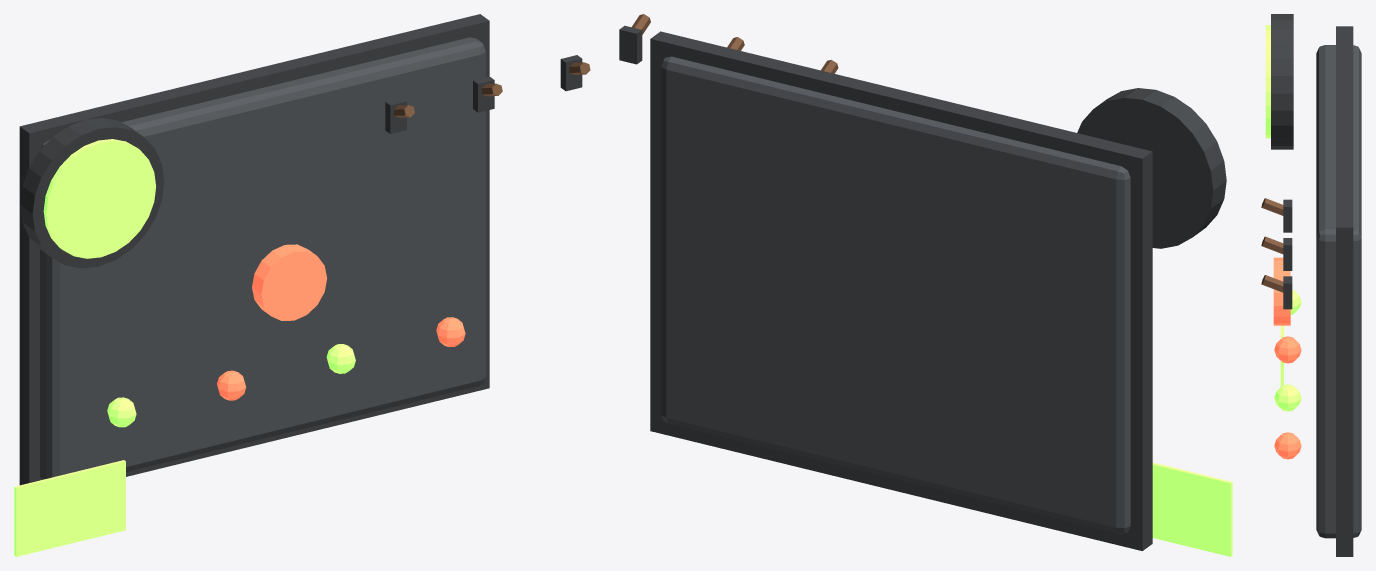
Rendered from arch_industrial_panel.glb.
3 views of the same model, side by side, from view 1: azimuth 30°, elevation 25°; view 2: azimuth 150°, elevation 25°; view 3: azimuth 270°, elevation 25° (orthographic). The views are drawn at different scales.
Parts seen in each view (by area): view 1: arch_industrial_panel; view 2: arch_industrial_panel; view 3: arch_industrial_panel.
Part boxes in pixels (box(x1,y1,x2,y2)): arch_industrial_panel: box(14, 14, 590, 556); arch_industrial_panel: box(619, 14, 1232, 556); arch_industrial_panel: box(1261, 14, 1361, 556).
Bounding box in the file's own units: 0.5175 × 0.36 × 0.0885.
